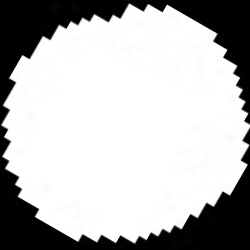spot: (5, 5, 247, 243)
